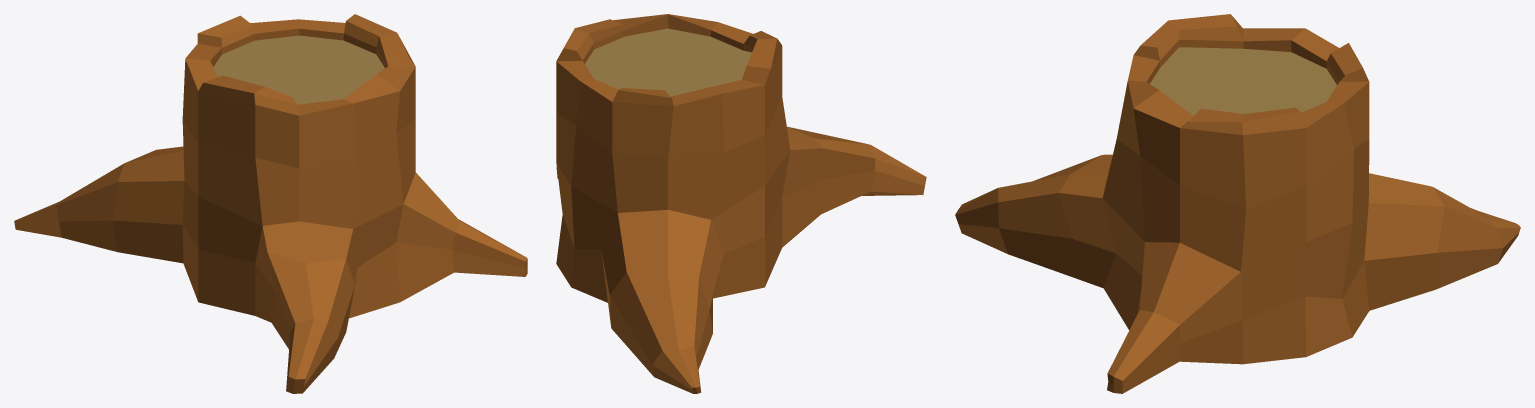
Rendered from Stump.fbx.
3 views of the same model, side by side, from view 1: azimuth 30°, elevation 25°; view 2: azimuth 150°, elevation 25°; view 3: azimuth 270°, elevation 25° (orthographic). The views are drawn at different scales.
Visible parts, largest first — view 1: Stump; view 2: Stump; view 3: Stump.
Part boxes in pixels (x1,y1,x2,y2): Stump: (14, 14, 527, 393); Stump: (556, 14, 926, 393); Stump: (955, 14, 1520, 393).
Bounding box in the file's own units: 656 × 447 × 895.
